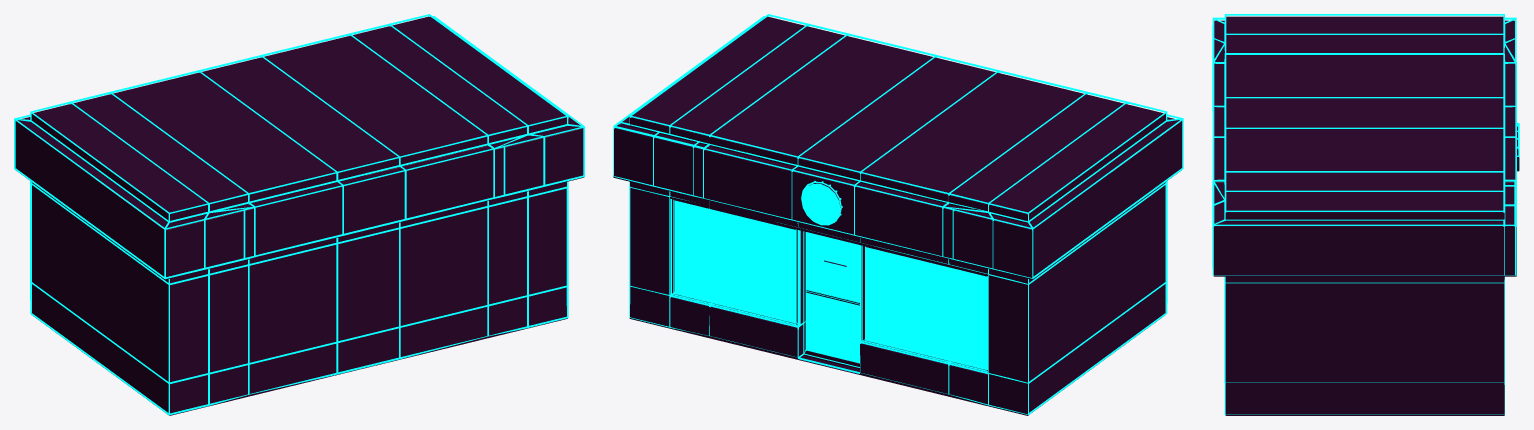
The model's file is SHOPLOD 1.fbx.
The picture shows the model from 3 angles, left to right: view 1: azimuth 30°, elevation 25°; view 2: azimuth 150°, elevation 25°; view 3: azimuth 270°, elevation 25°; orthographic projection.
Visible parts, largest first — view 1: SHOP_LOD0, SHOPLINES_LOD0; view 2: SHOP_LOD0, SHOPLINES_LOD0; view 3: SHOP_LOD0, SHOPLINES_LOD0.
Part boxes in pixels (box(x1,y1,x2,y2)): SHOP_LOD0: box(15, 16, 584, 415); SHOPLINES_LOD0: box(14, 14, 584, 415); SHOP_LOD0: box(613, 16, 1182, 415); SHOPLINES_LOD0: box(613, 14, 1183, 414); SHOP_LOD0: box(1213, 16, 1519, 415); SHOPLINES_LOD0: box(1212, 14, 1519, 414).
Size of what is drawn, in the model's own units: 3785 by 1754 by 2374.
